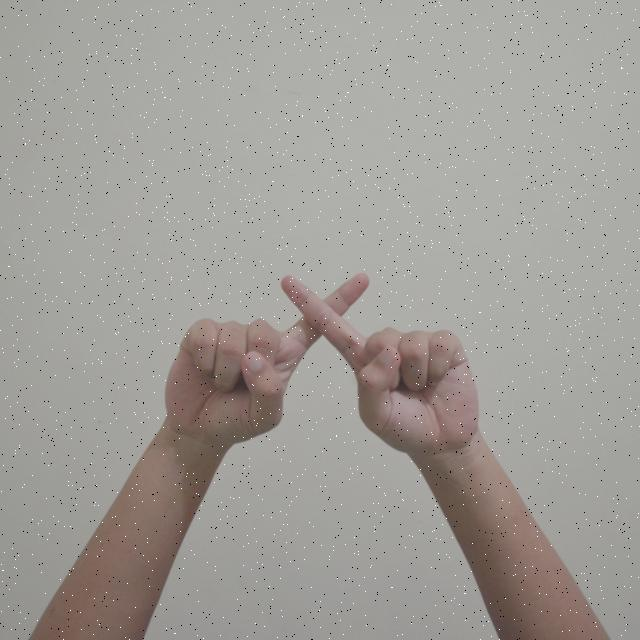X: (124, 255, 521, 481)
